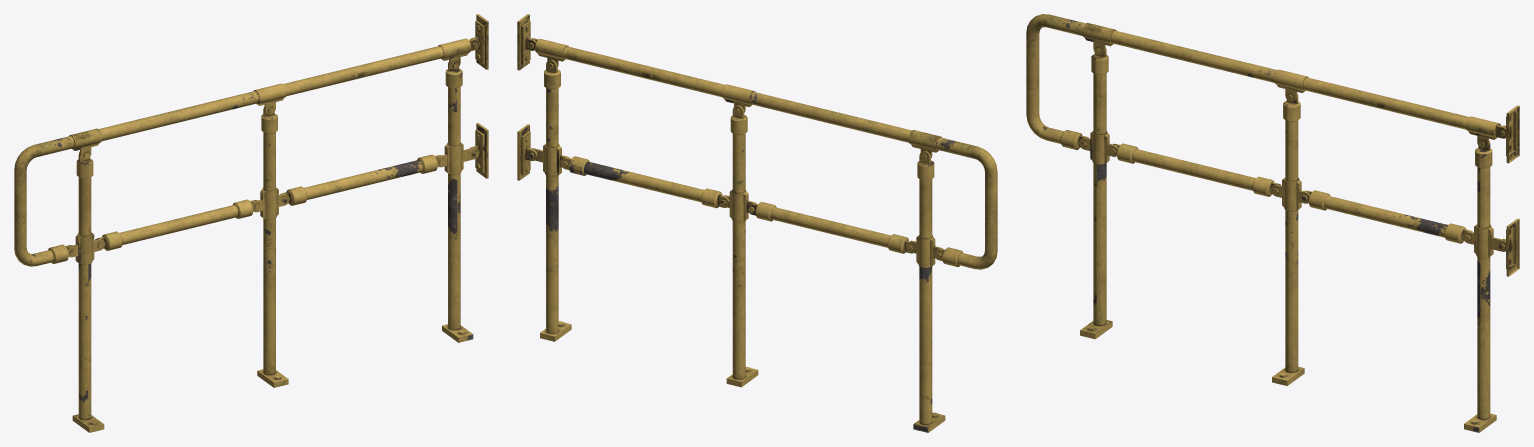
The model's file is SM_fence_corner.fbx.
The picture shows the model from 3 angles, left to right: view 1: azimuth 30°, elevation 25°; view 2: azimuth 150°, elevation 25°; view 3: azimuth 330°, elevation 25°; orthographic projection. The views are drawn at different scales.
Visible parts, largest first — view 1: SM_fence_corner_LOD0; view 2: SM_fence_corner_LOD0; view 3: SM_fence_corner_LOD0.
Boxes of the visible parts, left/top/right/bottom form: SM_fence_corner_LOD0: left=14, top=14, right=488, bottom=432; SM_fence_corner_LOD0: left=517, top=14, right=997, bottom=432; SM_fence_corner_LOD0: left=1026, top=14, right=1519, bottom=432.
Bounding box in the file's own units: 202 × 12.62 × 127.
1 material, 1 textured.
